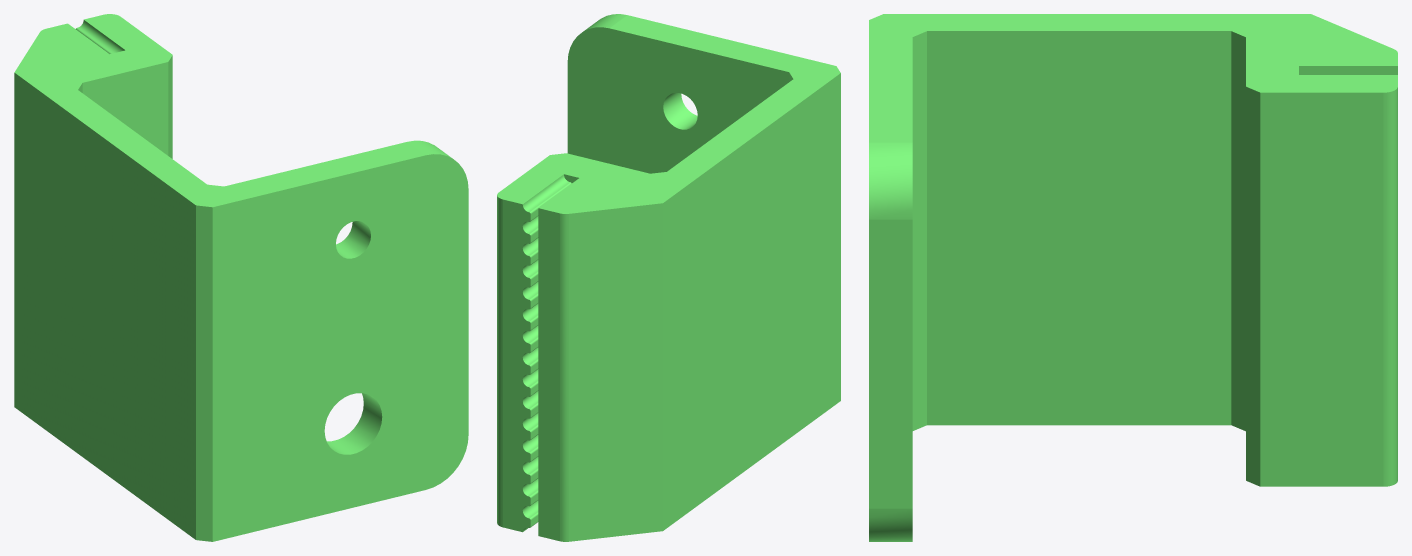
File: linear-mechanism-2-coupling-tool.glb
The picture shows the model from 3 angles, left to right: view 1: azimuth 30°, elevation 25°; view 2: azimuth 150°, elevation 25°; view 3: azimuth 270°, elevation 25°; orthographic projection. The views are drawn at different scales.
Visible parts, largest first — view 1: SOLID; view 2: SOLID; view 3: SOLID.
Boxes of the visible parts, x1,y1,x2,y2 form: SOLID: [14, 14, 468, 541]; SOLID: [497, 14, 840, 541]; SOLID: [869, 14, 1397, 541].
Bounding box in the file's own units: 25 × 30 × 36.49.
